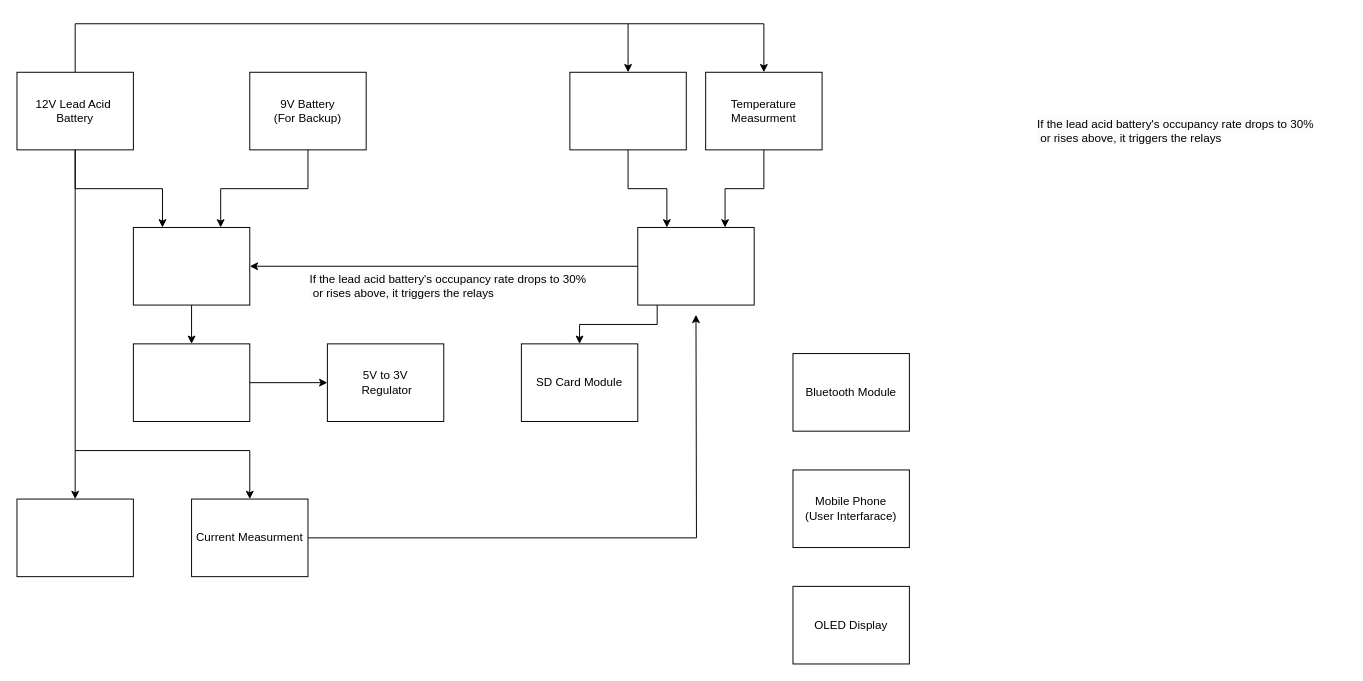
The diagram is 1363 pixels wide and 681 high, and some of its shapes have lost their labels. The centre of each missing label's shape, as x and y in pixels:
9-12V to 5V Regulator: pixel 191 382
Load: pixel 74 537
Microcontroller (Ardunio Nano): pixel 695 265
Relay Trigger Circuit for Switching Power Sources: pixel 191 265
Voltage Measurment: pixel 627 110
